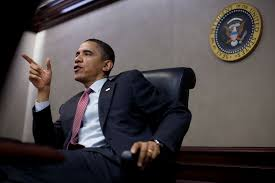hand: (13, 42, 60, 89)
